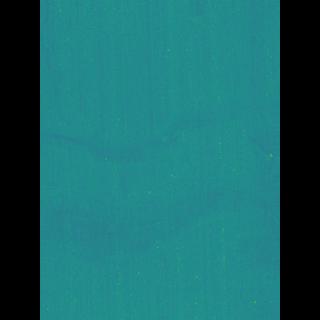Loch: (67, 74, 250, 277)
